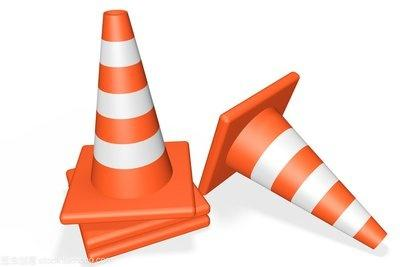cone_barrel: (212, 73, 387, 248), (78, 8, 179, 202)
